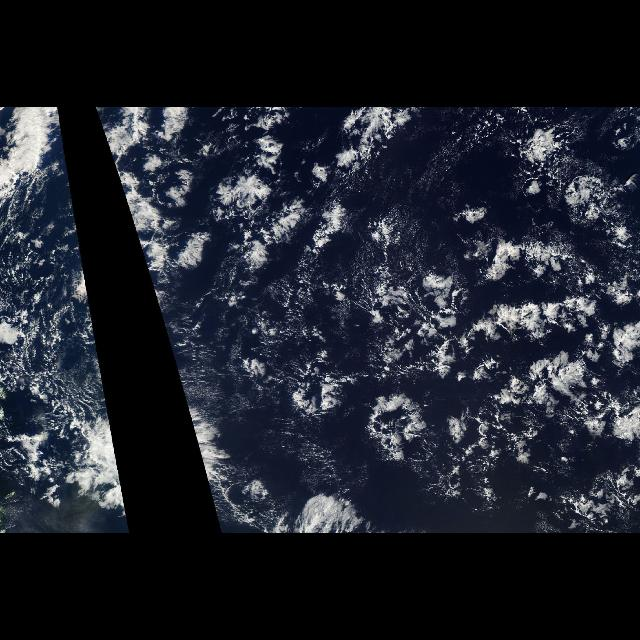Flower: (108, 108, 640, 498)
